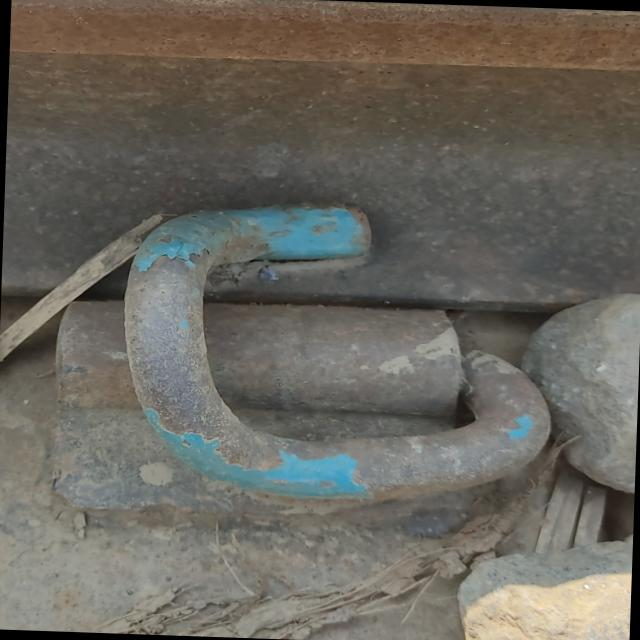track_bolt: (111, 195, 562, 512)
